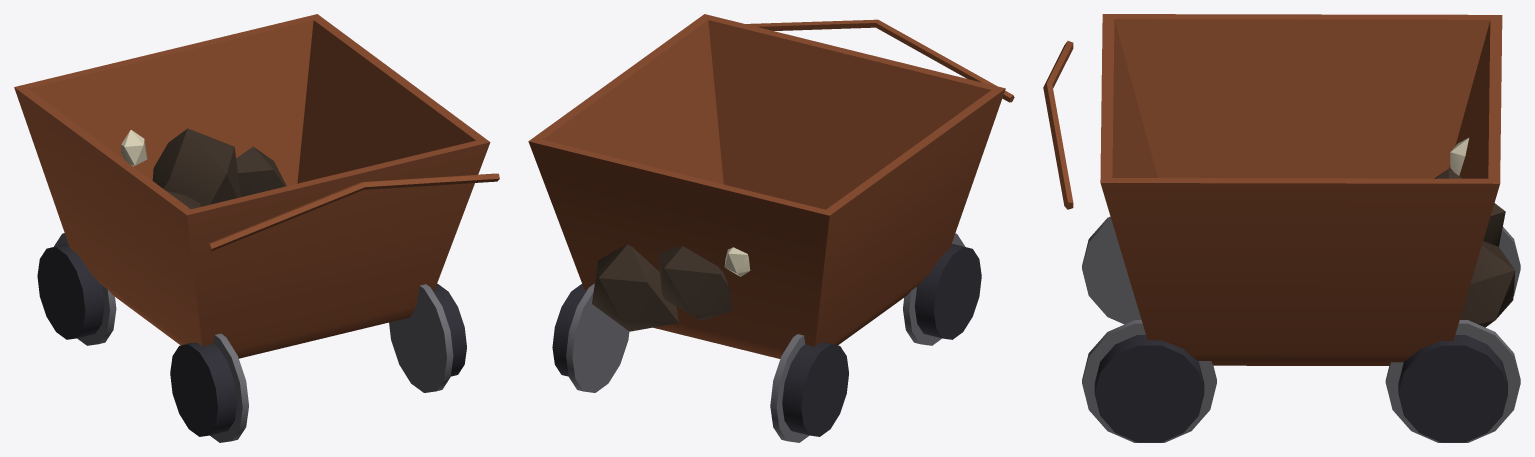
Rendered from mine_cart.glb.
3 renders of one model, left to right at view 1: azimuth 30°, elevation 25°; view 2: azimuth 150°, elevation 25°; view 3: azimuth 270°, elevation 25°, orthographic. The views are drawn at different scales.
Visible parts, largest first — view 1: mine_cart; view 2: mine_cart; view 3: mine_cart.
Part boxes in pixels (left/top/right/bottom): mine_cart: left=14, top=14, right=499, bottom=442; mine_cart: left=528, top=14, right=1014, bottom=442; mine_cart: left=1043, top=14, right=1520, bottom=442.
Bounding box in the file's own units: 1.91 × 1.57 × 2.26.
